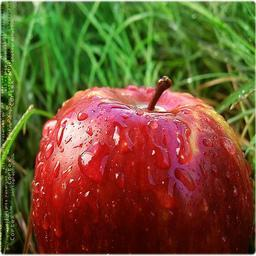apple: (25, 80, 252, 254)
